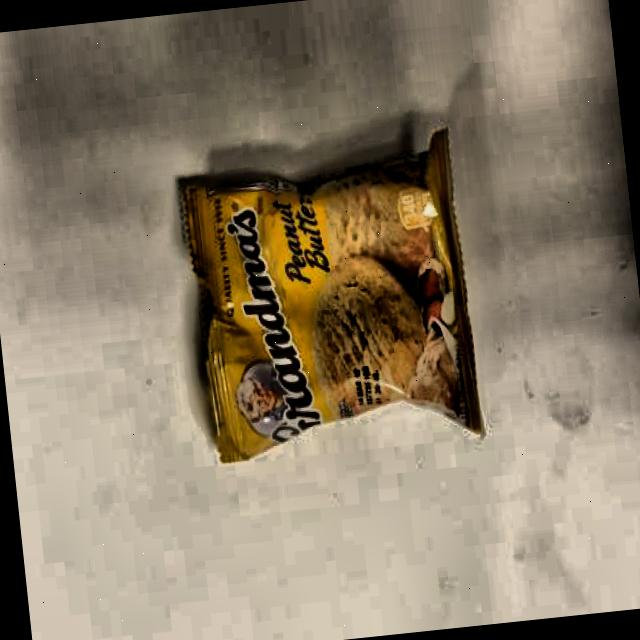trash: (180, 120, 496, 471)
